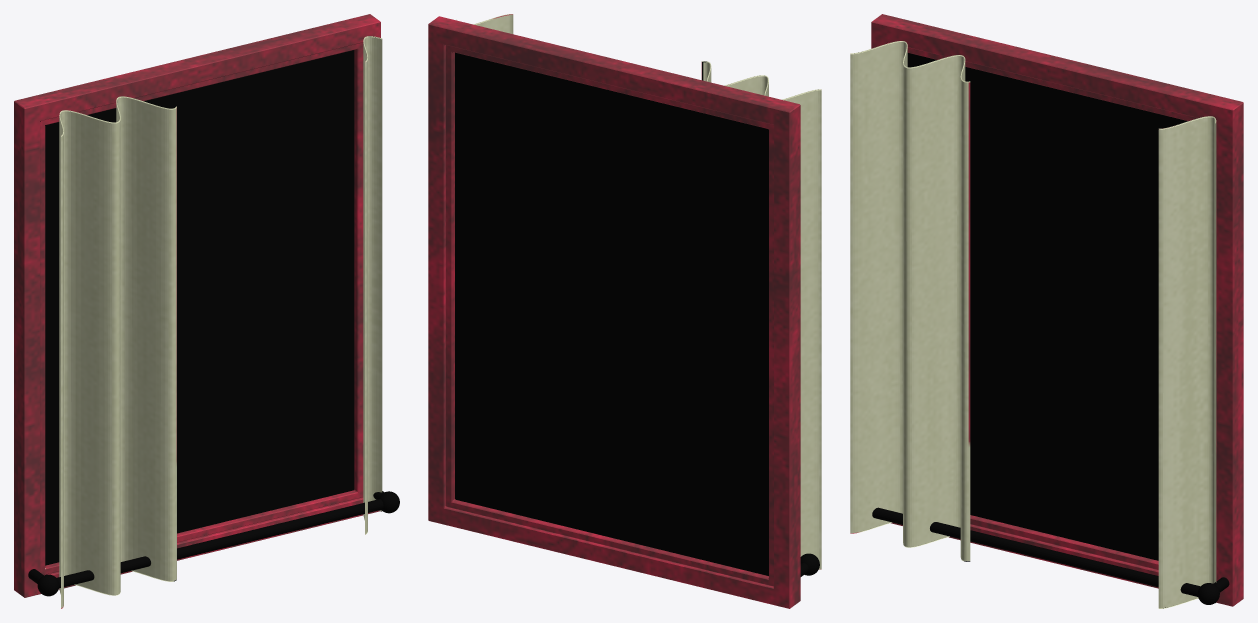
The model's file is WindowFactory65507.spawn_asset0.glb.
The picture shows the model from 3 angles, left to right: view 1: azimuth 30°, elevation 25°; view 2: azimuth 150°, elevation 25°; view 3: azimuth 330°, elevation 25°; orthographic projection.
Parts seen in each view (by area): view 1: WindowFactory(65507).spawn_asset(0).001; view 2: WindowFactory(65507).spawn_asset(0).001; view 3: WindowFactory(65507).spawn_asset(0).001.
Boxes of the visible parts, x1=… form: WindowFactory(65507).spawn_asset(0).001: x1=14, y1=14, x2=399, y2=608; WindowFactory(65507).spawn_asset(0).001: x1=428, y1=14, x2=821, y2=608; WindowFactory(65507).spawn_asset(0).001: x1=850, y1=14, x2=1243, y2=608.
Size of the model in its own units: 1.09 by 1.42 by 0.2084.
Materials: 1 (1 with a texture image).
